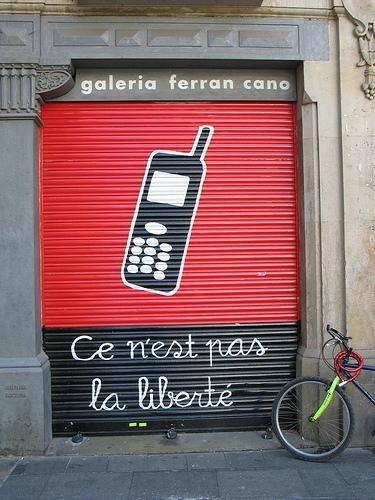bicycle: (270, 324, 375, 462)
